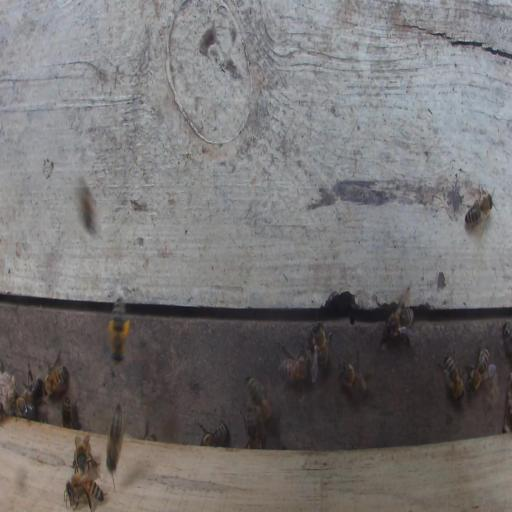bee: (108, 294, 130, 365), (244, 376, 273, 428), (66, 473, 104, 510), (106, 404, 123, 472), (340, 361, 368, 399), (79, 180, 98, 236), (468, 348, 490, 394), (384, 306, 414, 339), (465, 192, 493, 224), (444, 354, 462, 402), (280, 357, 310, 383), (246, 403, 262, 450), (313, 322, 327, 371), (74, 433, 90, 475), (44, 366, 67, 395), (201, 424, 226, 448), (9, 396, 35, 419), (24, 382, 45, 405), (62, 396, 73, 429), (503, 324, 512, 357)
